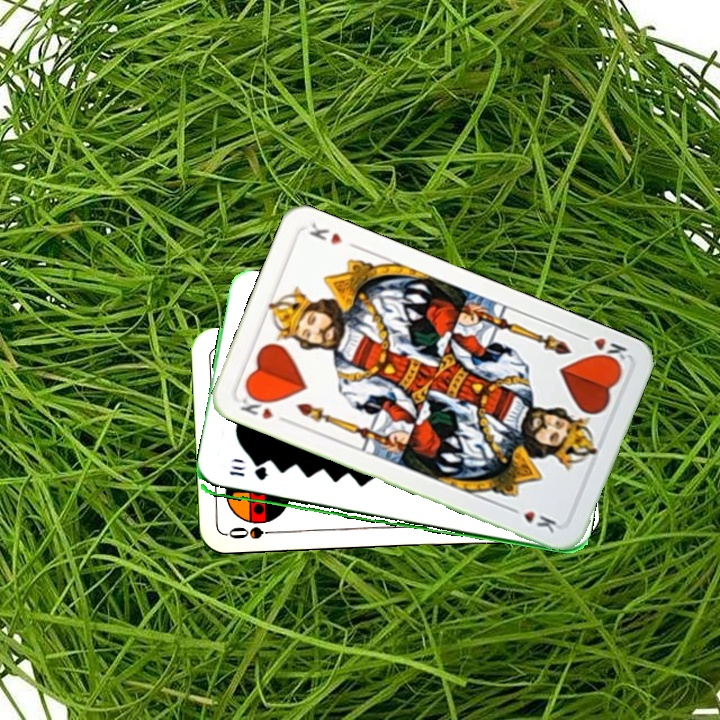G10: (225, 466, 271, 483)
HK: (574, 330, 631, 369), (236, 389, 276, 422)
SO: (224, 522, 283, 542)
